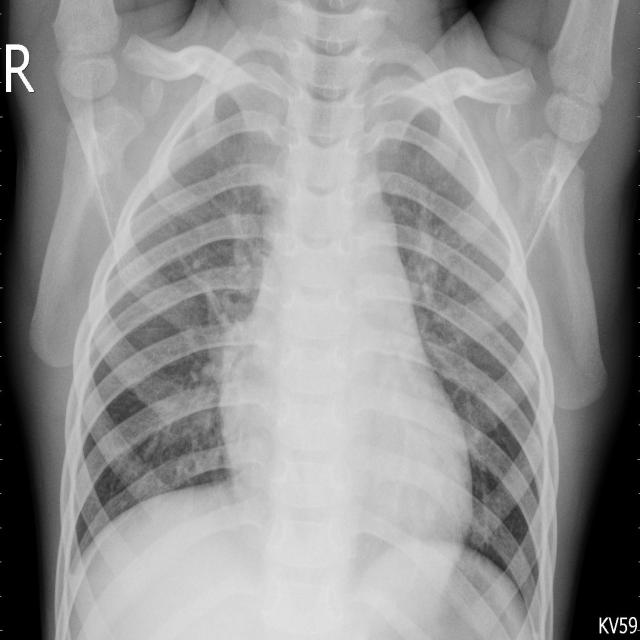no-pneumonia: (60, 128, 280, 582), (377, 112, 558, 631)
